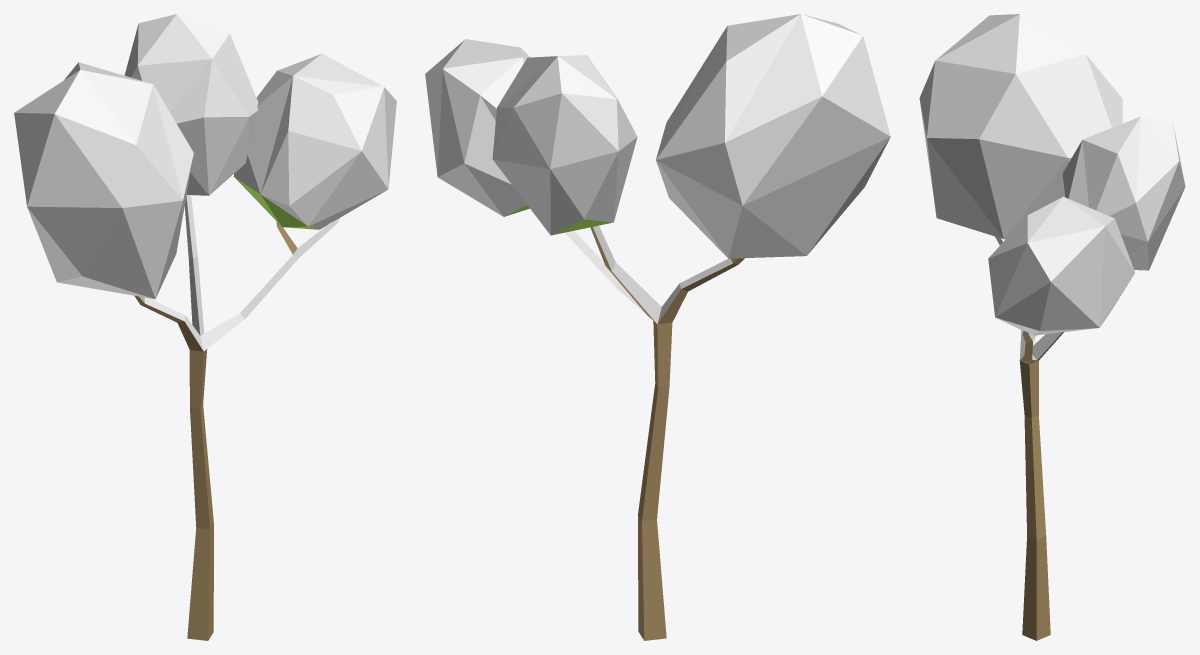
File: Random_Tree_s_Snow_BT_04.fbx
The picture shows the model from 3 angles, left to right: view 1: azimuth 30°, elevation 25°; view 2: azimuth 150°, elevation 25°; view 3: azimuth 270°, elevation 25°; orthographic projection. The views are drawn at different scales.
Parts seen in each view (by area): view 1: Random_Tree_s_Snow_BT_04; view 2: Random_Tree_s_Snow_BT_04; view 3: Random_Tree_s_Snow_BT_04.
Boxes of the visible parts, x1,y1,x2,y2 form: Random_Tree_s_Snow_BT_04: (14, 14, 396, 640); Random_Tree_s_Snow_BT_04: (425, 14, 890, 640); Random_Tree_s_Snow_BT_04: (919, 14, 1185, 640).
Size of the model in its own units: 201 by 288 by 123.
